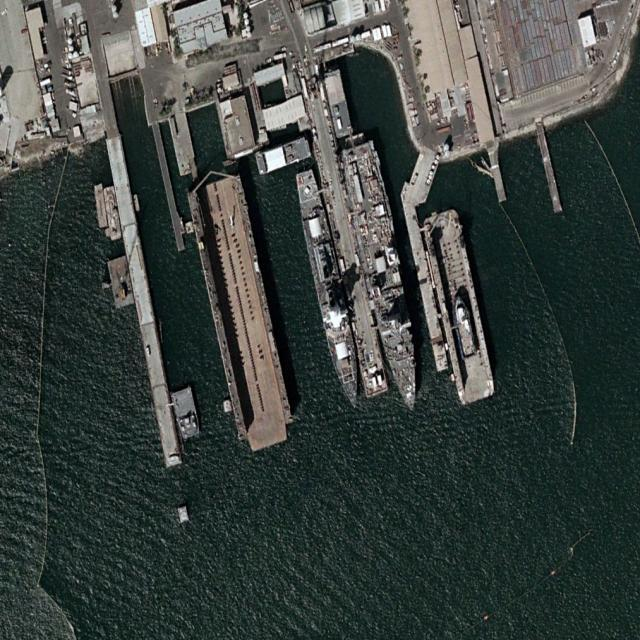Destroyer: (291, 165, 367, 413)
Other Ship: (171, 386, 203, 442)
Other Warship: (339, 136, 430, 417)
